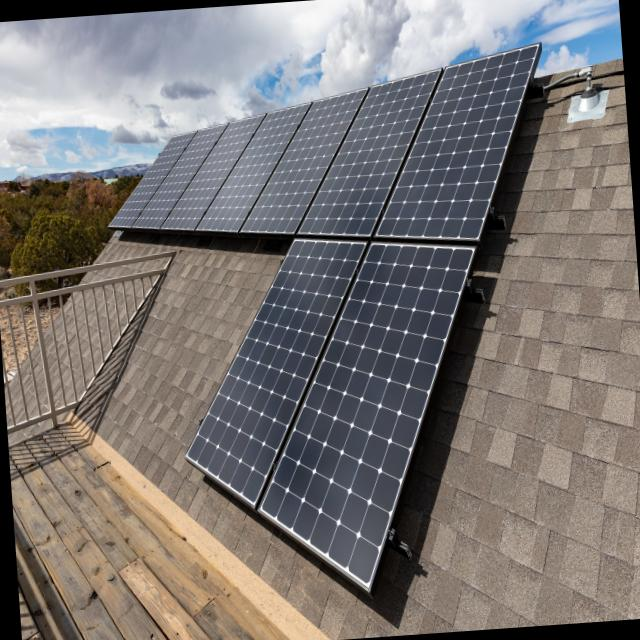no faulty: (114, 50, 537, 577)
